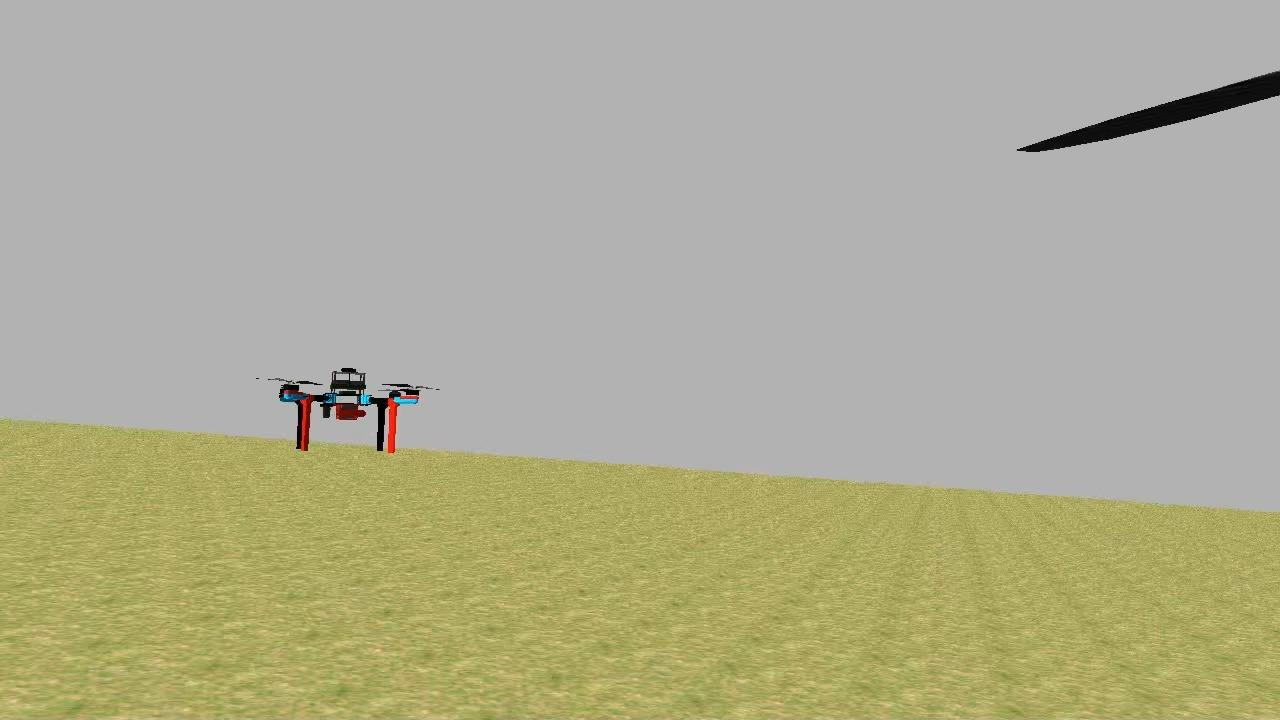UAV: (272, 364, 426, 458)
